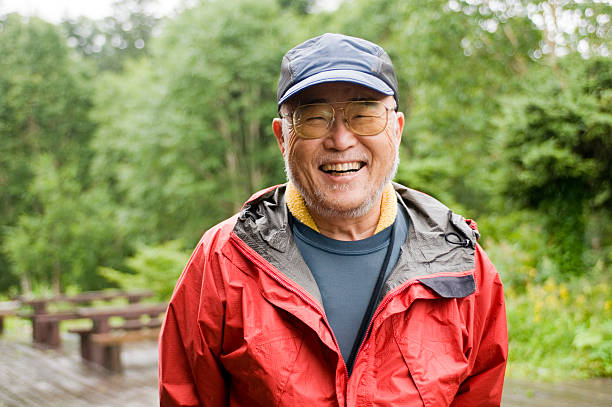person: (270, 31, 406, 223)
